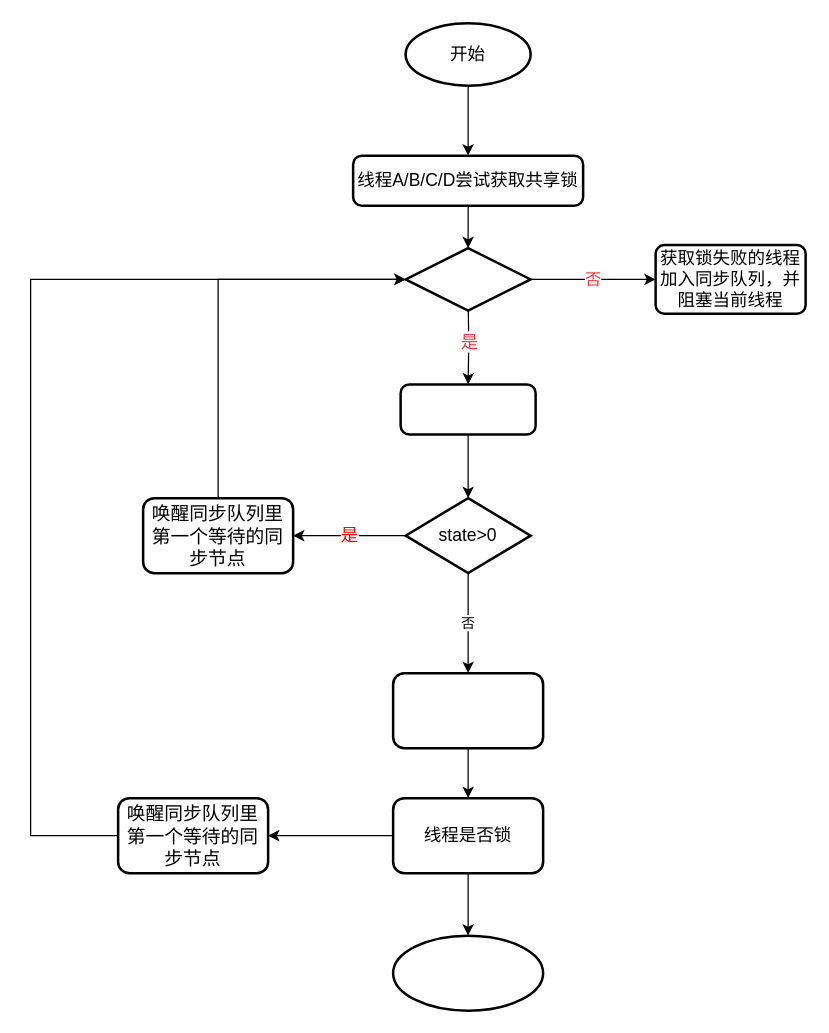
This 829x1033 diagram has some shape labels left out. The shapes that lost their labels are listed below. From the top down, each one's centre as x and y in pixels, then its label:
At point (467, 278): "判断state>0".
At point (467, 408): "cas 操作state--".
At point (467, 710): "获取到共享锁的线程执行相关操作".
At point (467, 972): "结束".
